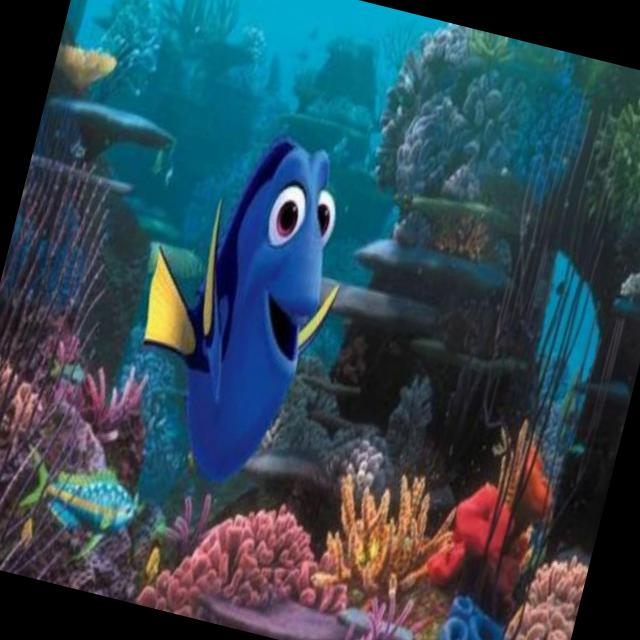TangFish: (95, 104, 376, 502)
